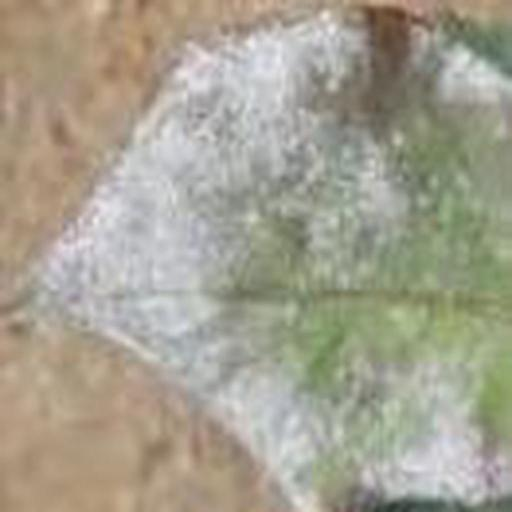powdery_mildew: (36, 2, 512, 512)
